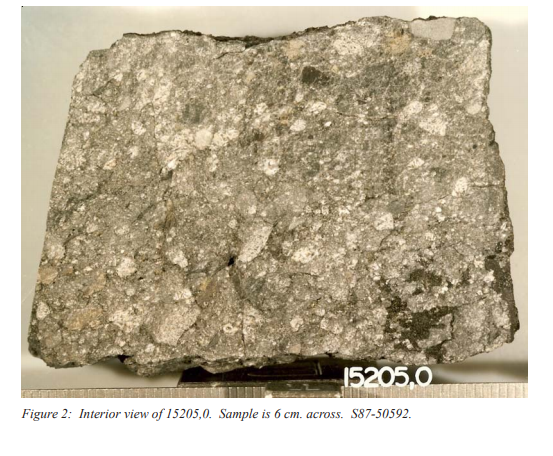Breccia: (46, 4, 523, 365)
